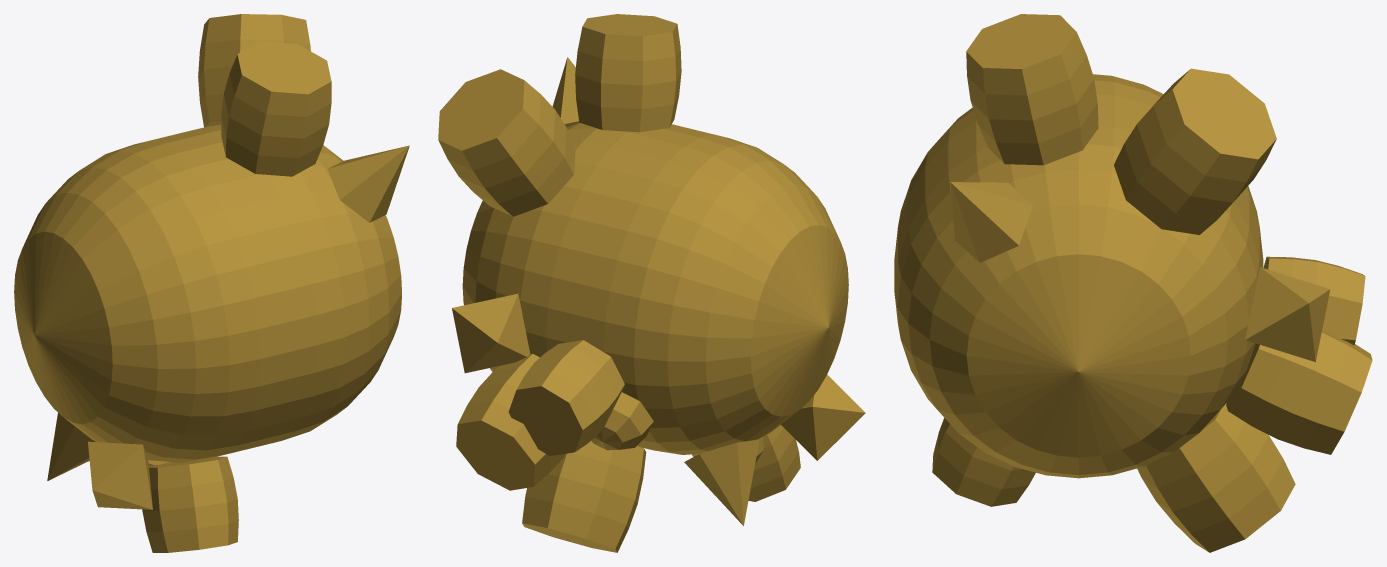
The model's file is exp2_capsule_asym_04.glb.
The picture shows the model from 3 angles, left to right: view 1: azimuth 30°, elevation 25°; view 2: azimuth 150°, elevation 25°; view 3: azimuth 270°, elevation 25°; orthographic projection. The views are drawn at different scales.
Parts seen in each view (by area): view 1: exp2_capsule_asym_04; view 2: exp2_capsule_asym_04; view 3: exp2_capsule_asym_04.
Boxes of the visible parts, x1,y1,x2,y2 form: exp2_capsule_asym_04: [14, 14, 409, 552]; exp2_capsule_asym_04: [438, 14, 865, 552]; exp2_capsule_asym_04: [894, 14, 1372, 552].
Bounding box in the file's own units: 1.61 × 2.07 × 1.69.
